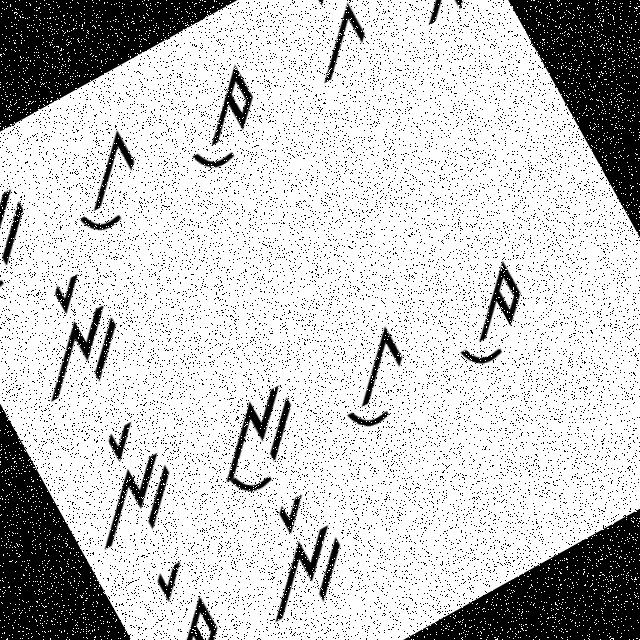gar: (266, 0, 399, 95)
gaw: (39, 120, 172, 253), (312, 317, 434, 443)
ngar: (51, 408, 200, 564), (223, 482, 369, 634), (0, 263, 145, 412)
ngaw: (178, 362, 326, 509), (0, 176, 59, 312)
ta: (392, 0, 490, 34)
tar: (123, 547, 247, 639)
taw: (148, 44, 288, 190), (422, 244, 556, 384)
